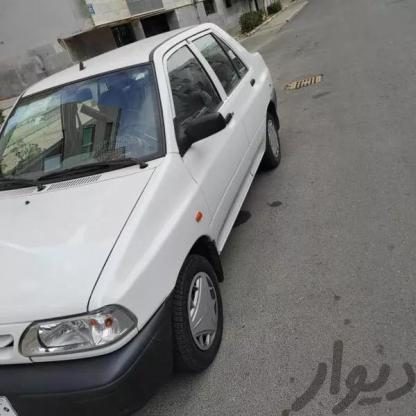Car: (0, 18, 280, 416)
